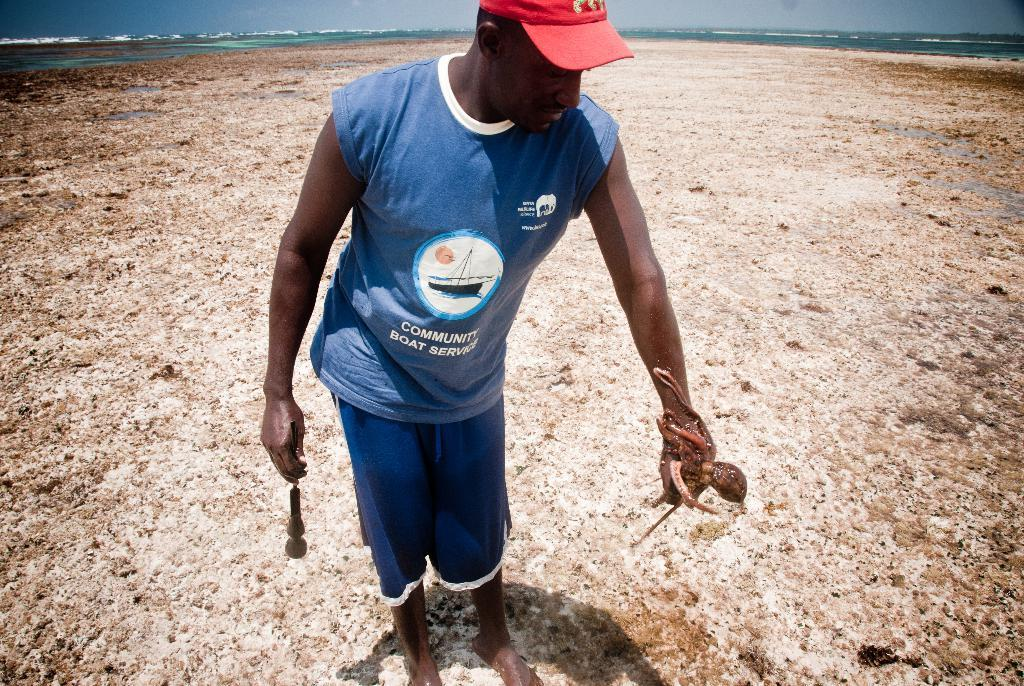Hat: (480, 0, 634, 71)
